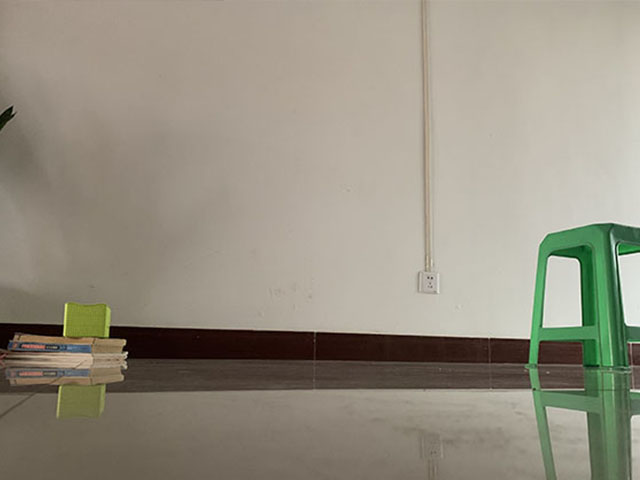book: (1, 333, 131, 364)
stool: (526, 222, 640, 370)
